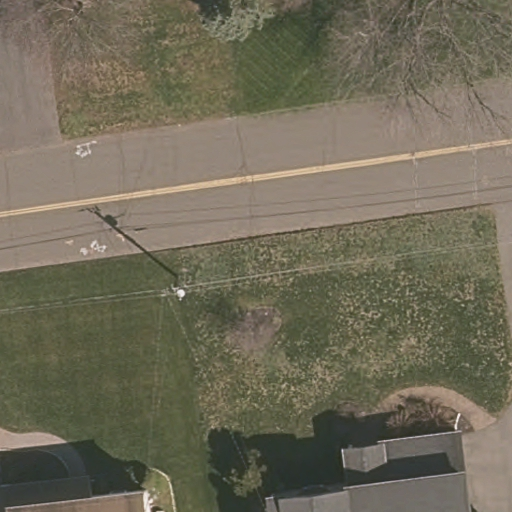DT: (159, 280, 192, 305)
